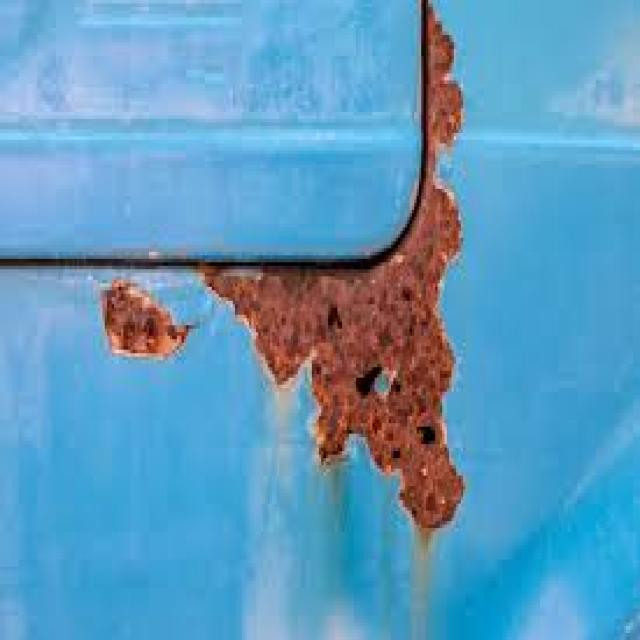Corrosion: (200, 6, 464, 530), (101, 280, 191, 358)
